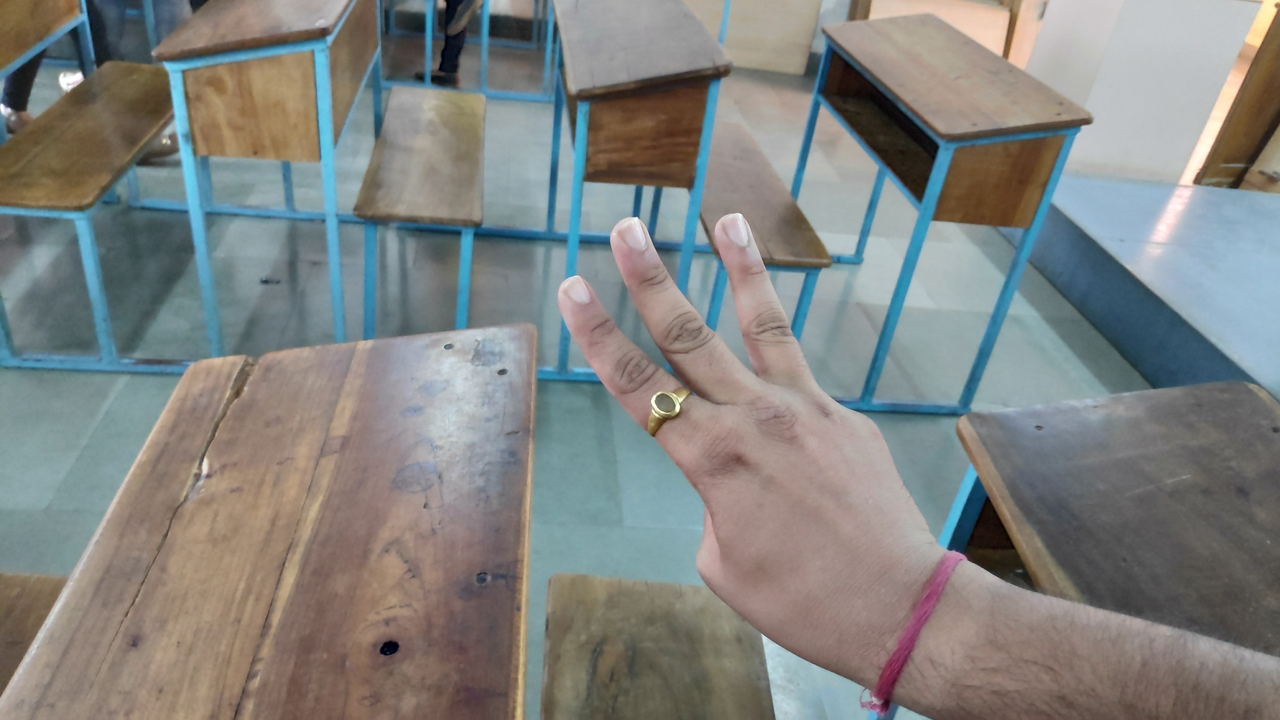fingertip: (702, 200, 768, 258), (600, 208, 664, 266), (542, 268, 608, 322)
